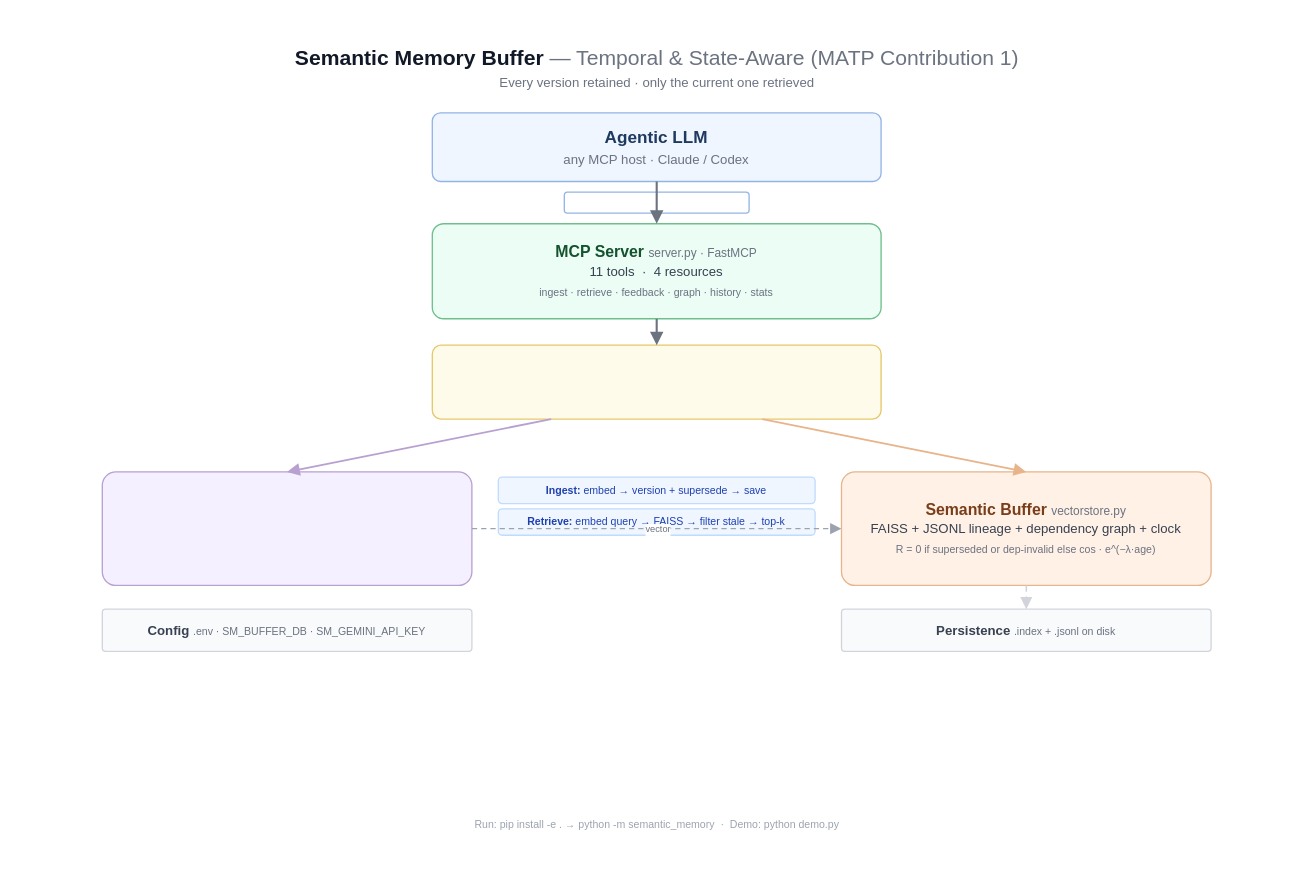
Some shapes in this 1312 by 890 pixel diagram are drawn without their labels. Here are the shapes that lost their labels. From the top down, the centre of each, then its label:
point 656,202: stdio · JSON-RPC
point 656,381: Memory Service service.py orchestrates embeddings + buffer + clock
point 286,528: Embeddings embeddings.py Gemini or local Nomic 768-d · normalized
